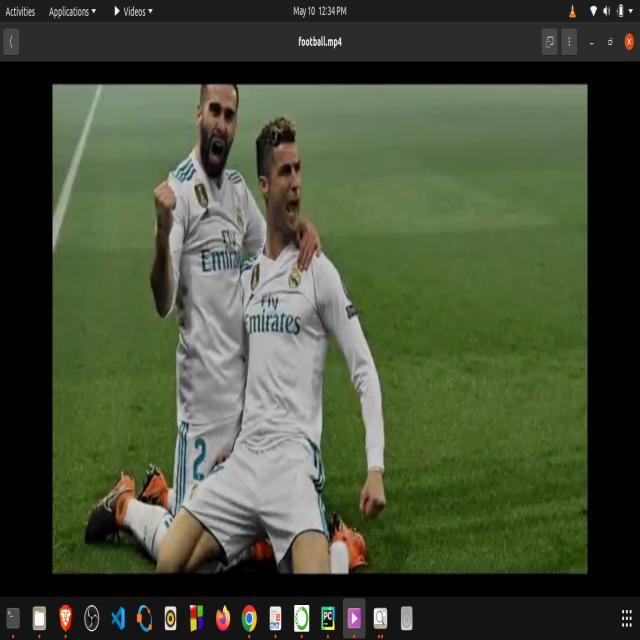player: (86, 80, 259, 578), (242, 105, 386, 582)
